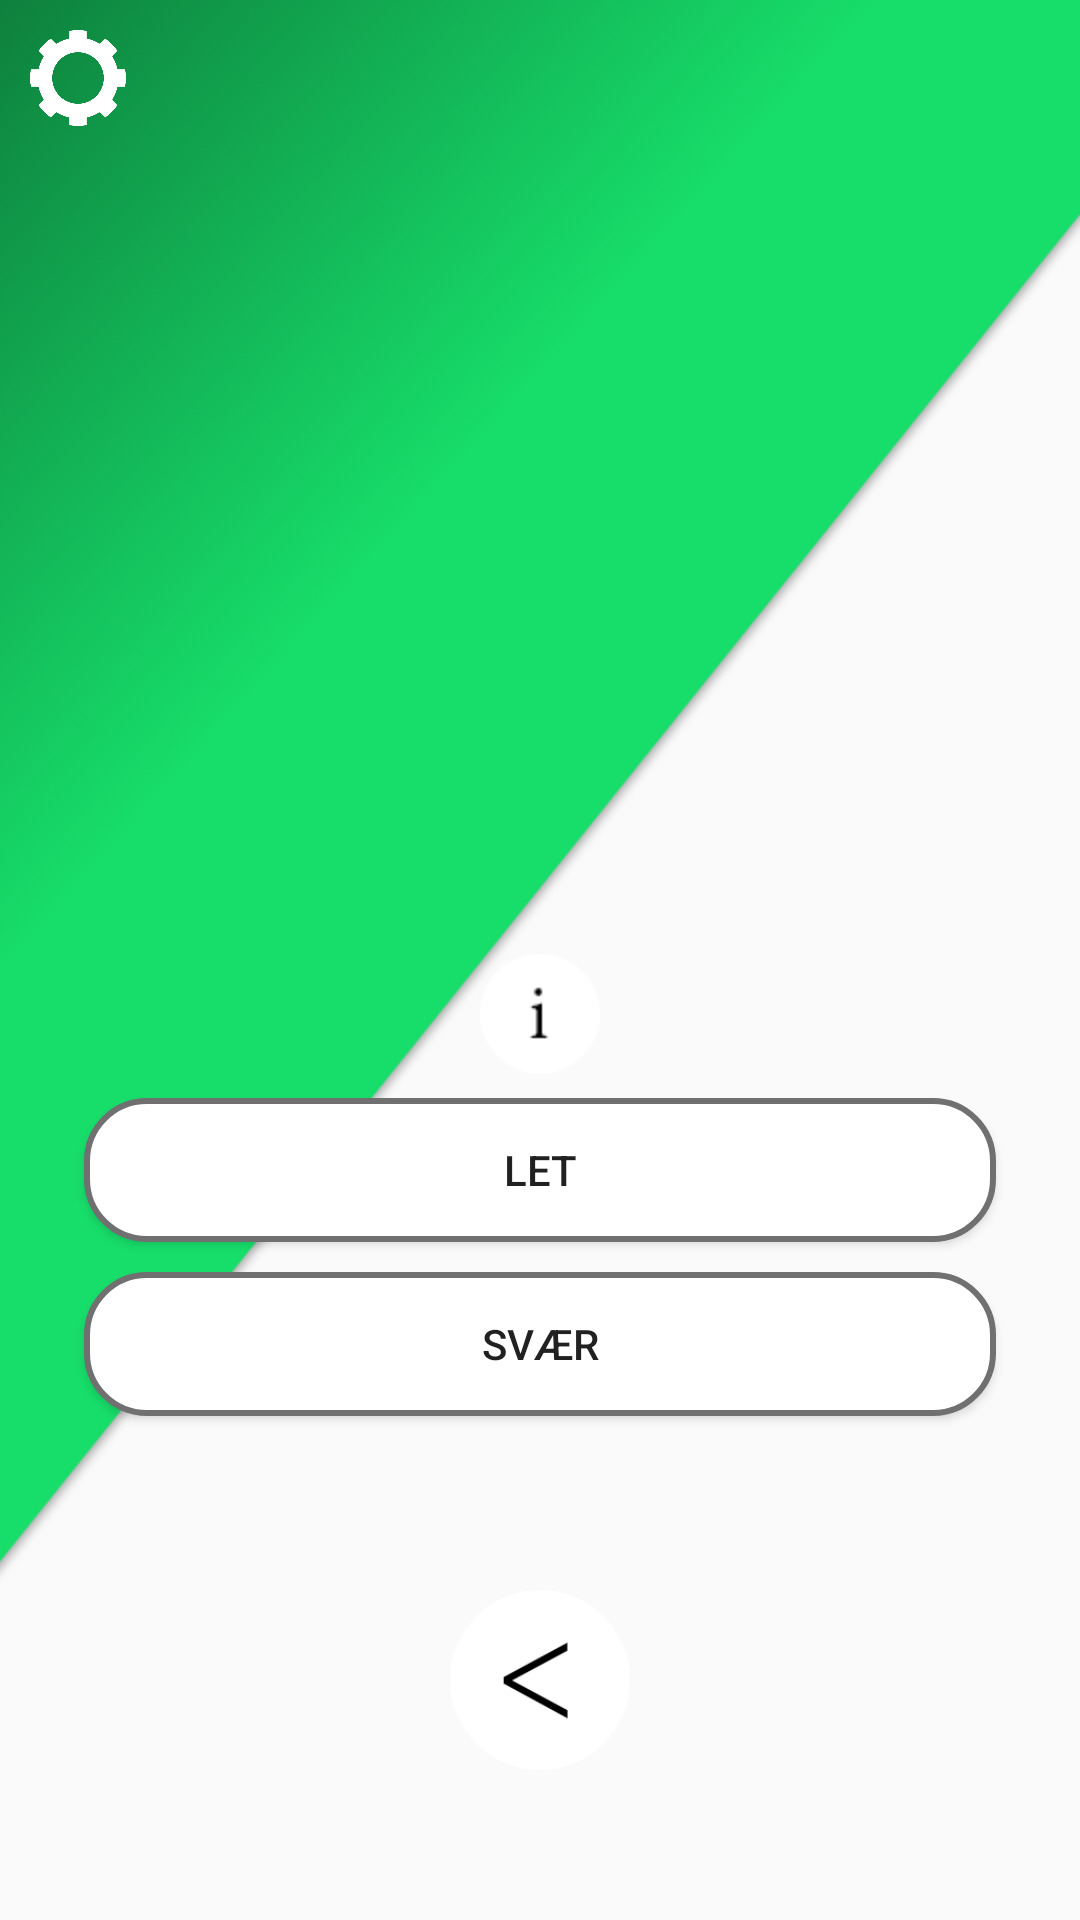

Icons on this 1080x1920 Android screen, each with its box as (x1, y1, x2, y2):
cockwheelbtn: (30, 30, 126, 126)
info: (530, 987, 548, 1039)
returnbutton: (503, 1642, 568, 1719)
